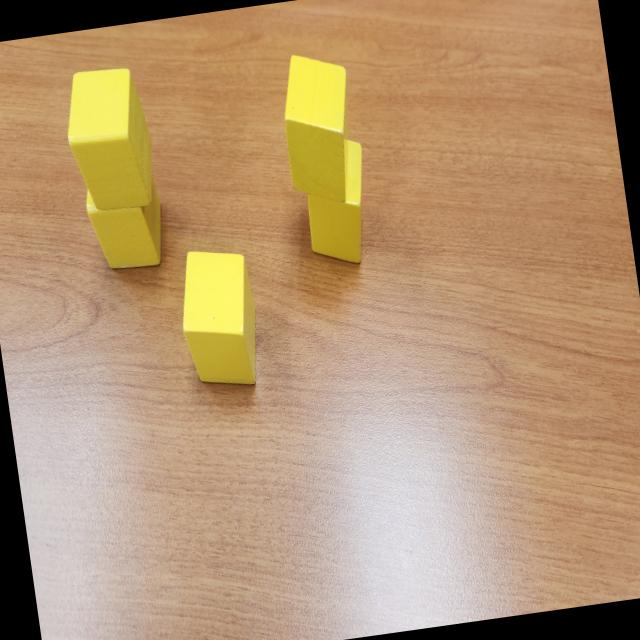yellow: (58, 63, 161, 215), (273, 49, 365, 210), (173, 244, 268, 396), (297, 135, 378, 270), (82, 167, 171, 276)
